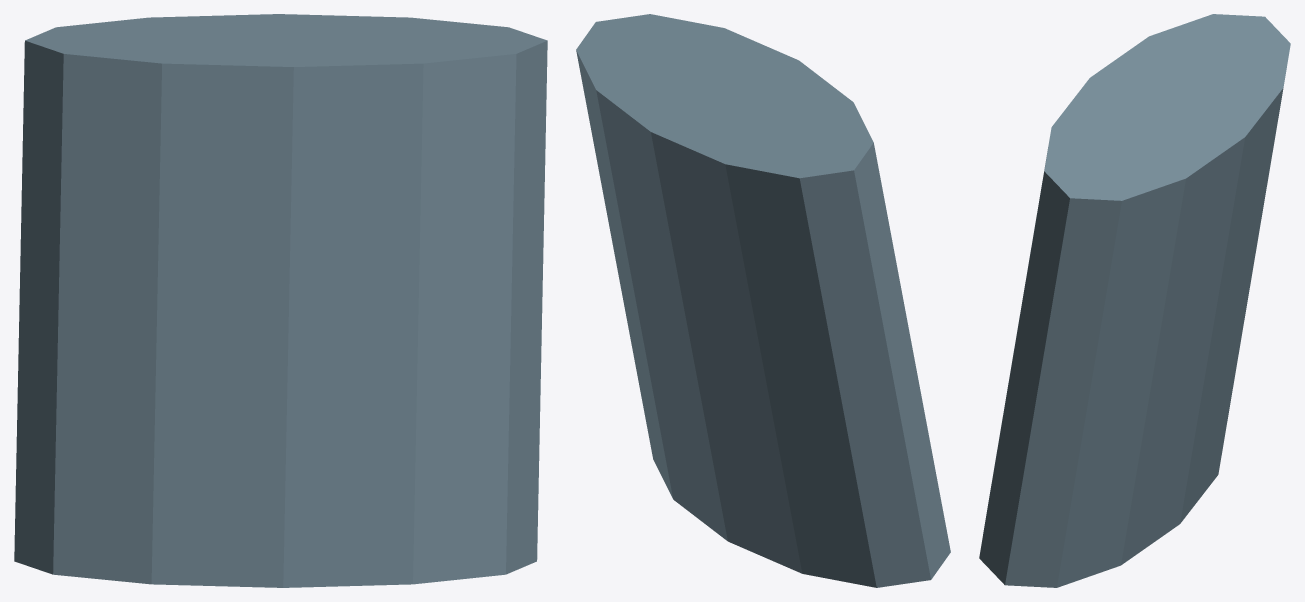
The model's file is astronaut_spawn_group157177855_lev4.glb.
The picture shows the model from 3 angles, left to right: view 1: azimuth 30°, elevation 25°; view 2: azimuth 150°, elevation 25°; view 3: azimuth 270°, elevation 25°; orthographic projection. The views are drawn at different scales.
Visible parts, largest first — view 1: astronaut_spawn_group157177855_lev4; view 2: astronaut_spawn_group157177855_lev4; view 3: astronaut_spawn_group157177855_lev4.
Part boxes in pixels (x1=…): astronaut_spawn_group157177855_lev4: x1=14, y1=14, x2=547, y2=587; astronaut_spawn_group157177855_lev4: x1=576, y1=14, x2=950, y2=587; astronaut_spawn_group157177855_lev4: x1=979, y1=14, x2=1290, y2=587.
Size of the model in its own units: 0.4409 by 0.4765 by 0.3074.
